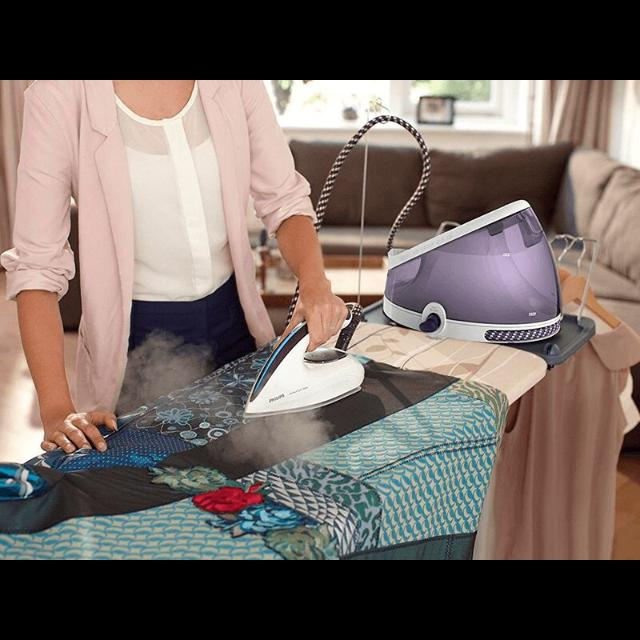Clothes-Iron: (240, 299, 370, 425)
